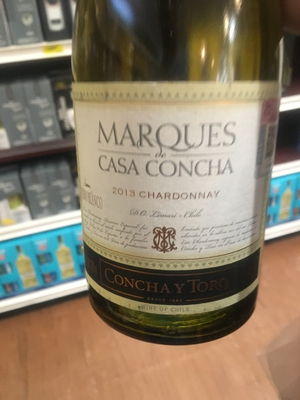marques de casa concha chardonnay: (65, 10, 278, 341)
